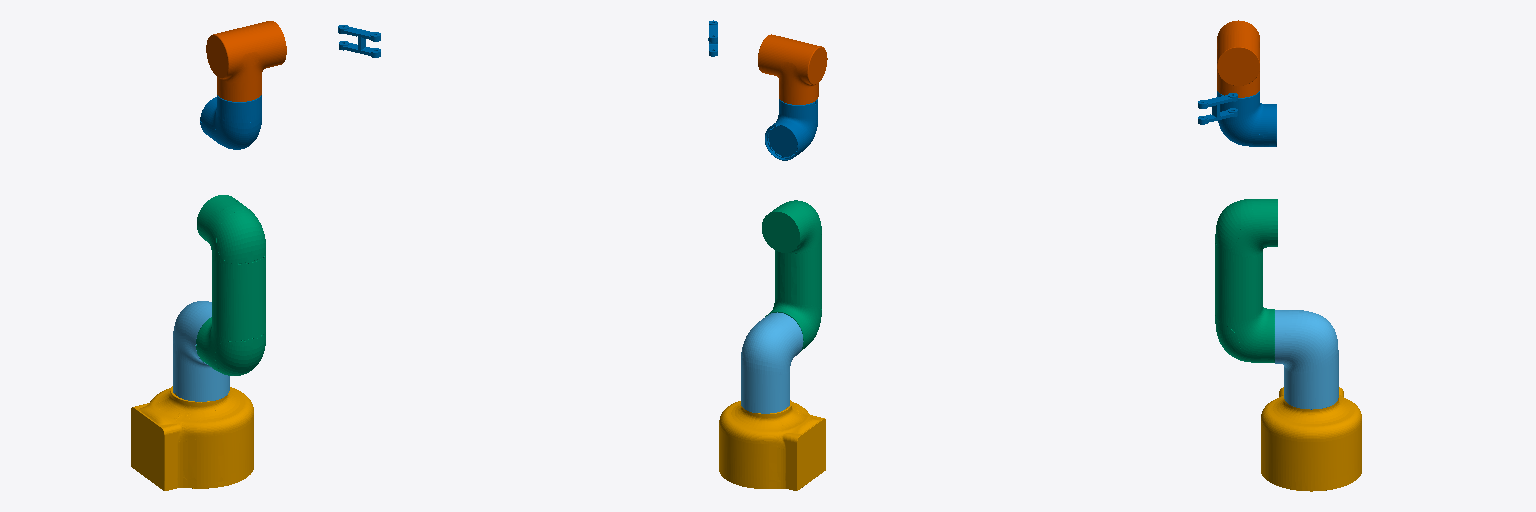
URDF robot description (mycobot):
<?xml version="1.0" ?>
<!-- =================================================================================== -->
<!-- |    This document was autogenerated by xacro from mycobot_with_gripper.urdf.xacro | -->
<!-- |    EDITING THIS FILE BY HAND IS NOT RECOMMENDED                                 | -->
<!-- =================================================================================== -->
<robot name="mycobot">
  <mujoco> <compiler discardvisual="false" meshdir="mesh"/> </mujoco>
  <link name="link1">
    <inertial>
      <origin rpy="0 0 0" xyz="0 0 0.035"/>
      <mass value="10.0"/>
      <inertia ixx="0.010333333333333335" ixy="0" ixz="0" iyy="0.010333333333333335" iyz="0" izz="0.0125"/>
    </inertial>
    <visual>
      <geometry>
        <mesh filename="package://mycobot_description/urdf/mycobot/mesh/link1.obj"/>
      </geometry>
      <origin rpy=" 0 0 -1.5707963267948966" xyz="0.0 0 0 "/>
    </visual>
    <collision>
      <geometry>
        <mesh filename="package://mycobot_description/urdf/mycobot/mesh/link1.obj"/>
      </geometry>
      <origin rpy=" 0 0 -1.5707963267948966" xyz="0.0 0 0 "/>
    </collision>
  </link>
  <link name="link2">
    <inertial>
      <origin rpy="0 0 0" xyz="0 0 0.060"/>
      <mass value="0.2"/>
      <inertia ixx="0.00023166666666666672" ixy="0" ixz="0" iyy="0.00023166666666666672" iyz="0" izz="0.00025000000000000006"/>
    </inertial>
    <visual>
      <geometry>
        <mesh filename="package://mycobot_description/urdf/mycobot/mesh/link2.obj"/>
      </geometry>
      <origin rpy=" 0 0 -1.5707963267948966" xyz="0.0 0 -0.06096 "/>
    </visual>
    <collision>
      <geometry>
        <mesh filename="package://mycobot_description/urdf/mycobot/mesh/link2.obj"/>
      </geometry>
      <origin rpy=" 0 0 -1.5707963267948966" xyz="0.0 0 -0.06096 "/>
    </collision>
  </link>
  <link name="link3">
    <inertial>
      <origin rpy="0 0 0" xyz="0.01 0 0.06"/>
      <mass value="0.4"/>
      <inertia ixx="0.0010508333333333335" ixy="0" ixz="0" iyy="0.0010508333333333335" iyz="0" izz="0.0005000000000000001"/>
    </inertial>
    <visual>
      <geometry>
        <mesh filename="package://mycobot_description/urdf/mycobot/mesh/link3.obj"/>
      </geometry>
      <origin rpy=" 0 -1.5707963267948966 0" xyz="0.0 0 0.03256 "/>
    </visual>
    <collision>
      <geometry>
        <mesh filename="package://mycobot_description/urdf/mycobot/mesh/link3.obj"/>
      </geometry>
      <origin rpy=" 0 -1.5707963267948966 0" xyz="0.0 0 0.03256 "/>
    </collision>
  </link>
  <link name="link4">
    <inertial>
      <origin rpy="0 0 0" xyz="-0.01 0 0.05"/>
      <mass value="0.4"/>
      <inertia ixx="0.0010508333333333335" ixy="0" ixz="0" iyy="0.0010508333333333335" iyz="0" izz="0.0005000000000000001"/>
    </inertial>
    <visual>
      <geometry>
        <!--- 0.0 0 -0.04 -->
        <mesh filename="package://mycobot_description/urdf/mycobot/mesh/link4.obj"/>
      </geometry>
      <origin rpy=" 0 -1.5707963267948966 0" xyz="0.0 0 0.03056 "/>
    </visual>
    <collision>
      <geometry>
        <!--- 0.0 0 -0.04 -->
        <mesh filename="package://mycobot_description/urdf/mycobot/mesh/link4.obj"/>
      </geometry>
      <origin rpy=" 0 -1.5707963267948966 0" xyz="0.0 0 0.03056 "/>
    </collision>
  </link>
  <link name="link5">
    <inertial>
      <origin rpy="0 0 0" xyz="0 0 0.05"/>
      <mass value="0.2"/>
      <inertia ixx="0.00016666666666666672" ixy="0" ixz="0" iyy="0.00016666666666666672" iyz="0" izz="0.00025000000000000006"/>
    </inertial>
    <visual>
      <geometry>
        <!--- 0.0 0 -0.04 -->
        <mesh filename="package://mycobot_description/urdf/mycobot/mesh/link5.obj"/>
      </geometry>
      <origin rpy=" -1.5707963267948966 0 0" xyz="0.0 0 -0.03356 "/>
    </visual>
    <collision>
      <geometry>
        <!--- 0.0 0 -0.04 -->
        <mesh filename="package://mycobot_description/urdf/mycobot/mesh/link5.obj"/>
      </geometry>
      <origin rpy=" -1.5707963267948966 0 0" xyz="0.0 0 -0.03356 "/>
    </collision>
  </link>
  <link name="link6">
    <inertial>
      <origin rpy="0 0 0" xyz="0 0 0.037"/>
      <mass value="0.5"/>
      <inertia ixx="0.0004625000000000001" ixy="0" ixz="0" iyy="0.0004625000000000001" iyz="0" izz="0.0006250000000000001"/>
    </inertial>
    <visual>
      <geometry>
        <!--- 0.0 0 -0.04 -->
        <mesh filename="package://mycobot_description/urdf/mycobot/mesh/link6.obj"/>
      </geometry>
      <origin rpy=" 0 0 0" xyz="0 0.00 -0.038 "/>
    </visual>
    <collision>
      <geometry>
        <!--- 0.0 0 -0.04 -->
        <mesh filename="package://mycobot_description/urdf/mycobot/mesh/link6.obj"/>
      </geometry>
      <origin rpy=" 0 0 0" xyz="0 0.00 -0.038 "/>
    </collision>
  </link>
  <link name="link7">
    <inertial>
      <origin rpy="1.570795 0 0" xyz="0 0.0025 0"/>
      <mass value="0.1"/>
      <inertia ixx="1.0208333333333334e-05" ixy="0" ixz="0" iyy="1.0208333333333334e-05" iyz="0" izz="2e-05"/>
    </inertial>
    <visual>
      <geometry>
        <!--- 0.0 0 -0.04 -->
        <mesh filename="package://mycobot_description/urdf/mycobot/mesh/link7.obj"/>
      </geometry>
      <origin rpy=" 0 0 0" xyz="0.0 0 -0.012 "/>
    </visual>
    <collision>
      <geometry>
        <!--- 0.0 0 -0.04 -->
        <mesh filename="package://mycobot_description/urdf/mycobot/mesh/link7.obj"/>
      </geometry>
      <origin rpy=" 0 0 0" xyz="0.0 0 -0.012 "/>
    </collision>
  </link>
  <joint name="joint1" type="revolute">
    <axis xyz="0 0 1"/>
    <limit effort="10.0" lower="-3.141592653589793" upper="3.141592653589793" velocity="1.0"/>
    <parent link="link1"/>
    <child link="link2"/>
    <origin rpy="0 0 0" xyz="0 0 0.13156"/>
    <dynamics damping="1.0e-6" friction="2.0e-1"/>
  </joint>
  <joint name="joint2" type="revolute">
    <axis xyz="0 0 1"/>
    <limit effort="10.0" lower="-3.141592653589793" upper="3.141592653589793" velocity="1.0"/>
    <parent link="link2"/>
    <child link="link3"/>
    <origin rpy="0 1.5707963267948966 -1.5707963267948966" xyz="0 0  0"/>
    <dynamics damping="1.0e-6" friction="2.0e-1"/>
  </joint>
  <joint name="joint3" type="revolute">
    <axis xyz=" 0 0 1"/>
    <limit effort="10.0" lower="-3.141592653589793" upper="3.141592653589793" velocity="1.0"/>
    <parent link="link3"/>
    <child link="link4"/>
    <origin rpy="0 0 0" xyz="-0.1104 0 0   "/>
    <dynamics damping="1.0e-6" friction="2.0e-1"/>
  </joint>
  <joint name="joint4" type="revolute">
    <axis xyz=" 0 0 1"/>
    <limit effort="10.0" lower="-3.141592653589793" upper="3.141592653589793" velocity="1.0"/>
    <parent link="link4"/>
    <child link="link5"/>
    <origin rpy="0 0 -1.5707963267948966" xyz="-0.096 0 0.06462"/>
    <dynamics damping="1.0e-6" friction="2.0e-1"/>
  </joint>
  <joint name="joint5" type="revolute">
    <axis xyz="0 0 1"/>
    <limit effort="10.0" lower="-3.141592653589793" upper="3.141592653589793" velocity="1.0"/>
    <parent link="link5"/>
    <child link="link6"/>
    <origin rpy="1.5707963267948966 -1.5707963267948966 0" xyz="0 -0.07318 0"/>
    <dynamics damping="1.0e-6" friction="2.0e-1"/>
  </joint>
  <joint name="joint6" type="revolute">
    <axis xyz="0 0 1"/>
    <limit effort="10.0" lower="-3.141592653589793" upper="3.141592653589793" velocity="1.0"/>
    <parent link="link6"/>
    <child link="link7"/>
    <origin rpy="-1.5707963267948966 0 0" xyz="0 0.0456 0"/>
    <dynamics damping="1.0e-6" friction="2.0e-1"/>
  </joint>
  <link name="gripper_base">
    <visual>
      <geometry>
        <!--- 0.0 0 -0.04 -->
        <mesh filename="package://mycobot_description/urdf/mycobot/gripper_base.obj"/>
      </geometry>
      <origin rpy=" 0 0 0" xyz="0.0 0.000 -0.012 "/>
    </visual>
    <collision>
      <geometry>
        <!--- 0.0 0 -0.04 -->
        <mesh filename="package://mycobot_description/urdf/mycobot/gripper_base.obj"/>
      </geometry>
      <origin rpy=" 0 0 0" xyz="0.0 0.000 -0.012 "/>
    </collision>
  </link>
  <link name="gripper_left1">
    <visual>
      <geometry>
        <!--- 0.0 0 -0.04 -->
        <mesh filename="package://mycobot_description/urdf/mycobot/gripper_left1.obj"/>
      </geometry>
      <origin rpy=" 0 0 0" xyz="0.039 -0.0133 -0.012 "/>
      <!-- <origin xyz = "0.0 0 -0.012 " rpy = " 0 0 0"/> -->
    </visual>
    <collision>
      <geometry>
        <mesh filename="package://mycobot_description/urdf/mycobot/gripper_left1.obj"/>
      </geometry>
      <origin rpy=" 0 0 0" xyz="0.039 -0.0133 -0.012 "/>
    </collision>
  </link>
  <link name="gripper_left2">
    <visual>
      <geometry>
        <mesh filename="package://mycobot_description/urdf/mycobot/gripper_left2.obj"/>
      </geometry>
      <origin rpy=" 0 0 0" xyz="0.005 -0.0195 -0.012 "/>
    </visual>
    <collision>
      <geometry>
        <mesh filename="package://mycobot_description/urdf/mycobot/gripper_left2.obj"/>
      </geometry>
      <origin rpy=" 0 0 0" xyz="0.005 -0.0195 -0.012 "/>
    </collision>
  </link>
  <link name="gripper_left3">
    <visual>
      <geometry>
        <mesh filename="package://mycobot_description/urdf/mycobot/gripper_left3.obj"/>
      </geometry>
      <origin rpy=" 0 0 0" xyz="0.012 0.0033 -0.012 "/>
      <!-- <origin xyz = "0.0 0 0 " rpy = " 0 0 0"/> -->
    </visual>
    <collision>
      <geometry>
        <mesh filename="package://mycobot_description/urdf/mycobot/gripper_left3.obj"/>
      </geometry>
      <origin rpy=" 0 0 0" xyz="0.012 0.0033 -0.012 "/>
    </collision>
  </link>
  <link name="gripper_right1">
    <visual>
      <geometry>
        <mesh filename="package://mycobot_description/urdf/mycobot/gripper_right1.obj"/>
      </geometry>
      <origin rpy=" 0 0 0" xyz="-0.039 -0.0133 -0.012 "/>
    </visual>
    <collision>
      <geometry>
        <mesh filename="package://mycobot_description/urdf/mycobot/gripper_right1.obj"/>
      </geometry>
      <origin rpy=" 0 0 0" xyz="-0.039 -0.0133 -0.012 "/>
    </collision>
  </link>
  <link name="gripper_right2">
    <visual>
      <geometry>
        <mesh filename="package://mycobot_description/urdf/mycobot/gripper_right2.obj"/>
      </geometry>
      <origin rpy=" 0 0 0" xyz="-0.005 -0.0195 -0.012 "/>
    </visual>
    <collision>
      <geometry>
        <mesh filename="package://mycobot_description/urdf/mycobot/gripper_right2.obj"/>
      </geometry>
      <origin rpy=" 0 0 0" xyz="-0.005 -0.0195 -0.012 "/>
    </collision>
  </link>
  <link name="gripper_right3">
    <visual>
      <geometry>
        <mesh filename="package://mycobot_description/urdf/mycobot/gripper_right3.obj"/>
      </geometry>
      <origin rpy=" 0 0 0" xyz="-0.012 0.0033 -0.012 "/>
    </visual>
    <collision>
      <geometry>
        <mesh filename="package://mycobot_description/urdf/mycobot/gripper_right3.obj"/>
      </geometry>
      <origin rpy=" 0 0 0" xyz="-0.012 0.0033 -0.012"/>
    </collision>
  </link>
  <joint name="link7_to_gripper_base" type="fixed">
    <!-- <axis xyz="0 0 1"/>
    <limit effort = "1000.0" lower = "-3.14" upper = "3.14159" velocity = "0"/> -->
    <parent link="link7"/>
    <child link="gripper_base"/>
    <!-- <origin xyz= "0 0.0 0" rpy = "-1.5708 0 0"/>   -->
    <origin rpy="1.579 0 0" xyz="0 0 0.034"/>
  </joint>
  <joint name="gripper_base_to_gripper_left3" type="revolute">
    <axis xyz="0 0 1"/>
    <limit effort="1000.0" lower="-0.7" upper="0.15" velocity="0"/>
    <parent link="gripper_base"/>
    <child link="gripper_left3"/>
    <origin rpy="0 0 0" xyz="-0.012 -0.003 0"/>
  </joint>
  <joint name="gripper_base_to_gripper_left2" type="revolute">
    <axis xyz="0 0 1"/>
    <limit effort="1000.0" lower="-0.8" upper="0.5" velocity="0"/>
    <parent link="gripper_base"/>
    <child link="gripper_left2"/>
    <origin rpy="0 0 0" xyz="-0.005 0.019 0"/>
    <!-- <mimic joint="gripper_controller" multiplier="1.0" offset="0" /> -->
  </joint>
  <joint name="gripper_left3_to_gripper_left1" type="revolute">
    <axis xyz="0 0 1"/>
    <limit effort="1000.0" lower="-0.5" upper="0.5" velocity="0"/>
    <parent link="gripper_left3"/>
    <child link="gripper_left1"/>
    <origin rpy="0 0 0" xyz="-0.027 0.016 0"/>
    <!-- <mimic joint="gripper_controller" multiplier="-1.0" offset="0" /> -->
  </joint>
  <joint name="gripper_base_to_gripper_right3" type="revolute">
    <axis xyz="0 0 1"/>
    <limit effort="1000.0" lower="-0.15" upper="0.7" velocity="0"/>
    <parent link="gripper_base"/>
    <child link="gripper_right3"/>
    <origin rpy="0 0 0" xyz="0.012 -0.003 0"/>
    <!-- <mimic joint="gripper_controller" multiplier="-1.0" offset="0" /> -->
  </joint>
  <joint name="gripper_base_to_gripper_right2" type="revolute">
    <axis xyz="0 0 1"/>
    <limit effort="1000.0" lower="-0.5" upper="0.8" velocity="0"/>
    <parent link="gripper_base"/>
    <child link="gripper_right2"/>
    <origin rpy="0 0 0" xyz="0.005 0.019 0"/>
    <!-- <mimic joint="gripper_controller" multiplier="-1.0" offset="0" /> -->
  </joint>
  <joint name="gripper_right3_to_gripper_right1" type="revolute">
    <axis xyz="0 0 1"/>
    <limit effort="1000.0" lower="-0.5" upper="0.5" velocity="0"/>
    <parent link="gripper_right3"/>
    <child link="gripper_right1"/>
    <origin rpy="0 0 0" xyz="0.027 0.016 0"/>
    <!-- <mimic joint="gripper_controller" multiplier="1.0" offset="0" /> -->
  </joint>
  </robot>

--- Facts derived from the render (not from the file) ---
The picture shows the robot from 3 angles, left to right: view 1: azimuth 30°, elevation 25°; view 2: azimuth 150°, elevation 25°; view 3: azimuth 270°, elevation 25°; orthographic projection.
Model mycobot with 14 links and 13 joints (12 revolute, 1 fixed), rooted at link1, posed every joint at zero.
Links seen in each view (by area): view 1: link1, link3, link6, link2, link5, gripper_right2; view 2: link1, link3, link2, link6, link5; view 3: link3, link1, link2, link6, link5, gripper_right2.
Link boxes in pixels (x1,y1,x2,y2): link1: (131, 386, 253, 490); link3: (196, 195, 265, 375); link6: (206, 21, 286, 101); link2: (173, 301, 229, 401); link5: (200, 95, 261, 149); gripper_right2: (338, 25, 380, 57); link1: (719, 400, 825, 490); link3: (762, 200, 821, 351); link2: (741, 312, 803, 413); link6: (758, 34, 827, 104); link5: (765, 99, 817, 160); link3: (1215, 199, 1277, 362); link1: (1261, 387, 1361, 491); link2: (1275, 310, 1338, 409); link6: (1217, 20, 1259, 97); link5: (1217, 91, 1276, 146); gripper_right2: (1198, 93, 1237, 124).
Size in the robot's own frame: 0.1707 by 0.1459 by 0.4303 metres.
6 mesh visuals loaded from 14 distinct referenced files (6 OBJ); not drawn: 8 (reference not matched to a file when rendering).